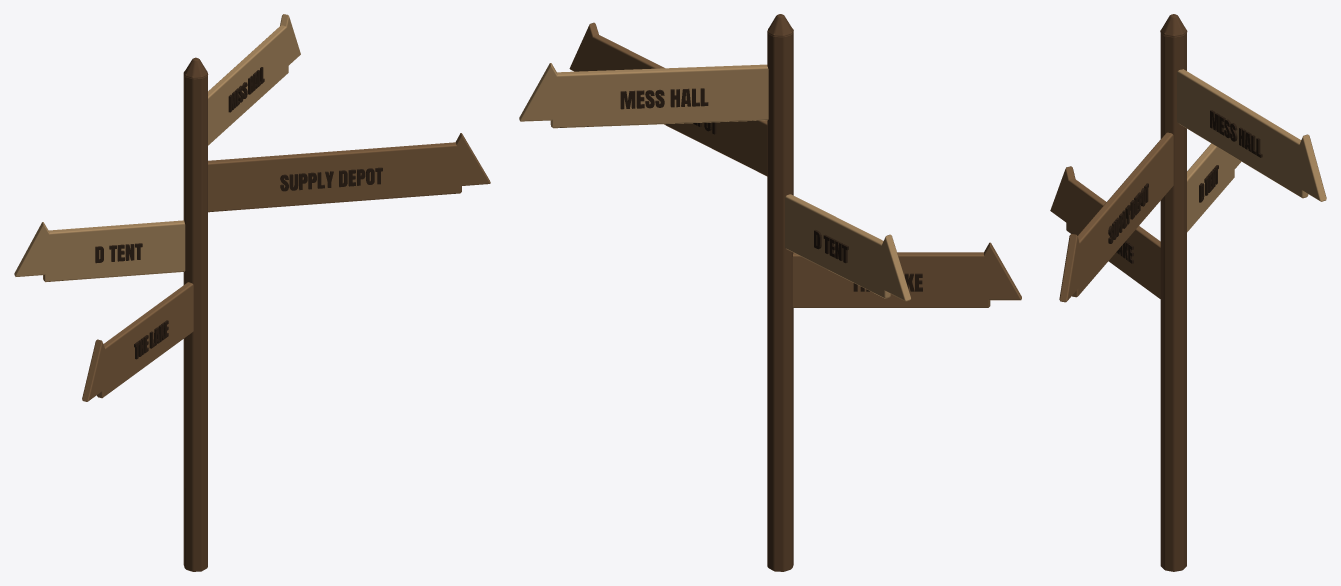
The model's file is SignDirections.glb.
3 renders of one model, left to right at view 1: azimuth 30°, elevation 25°; view 2: azimuth 150°, elevation 25°; view 3: azimuth 270°, elevation 25°, orthographic. The views are drawn at different scales.
Visible parts, largest first — view 1: SignDirections.001; view 2: SignDirections.001; view 3: SignDirections.001.
Boxes of the visible parts, box(x1,y1,x2,y2) form: SignDirections.001: box(14, 14, 490, 571); SignDirections.001: box(519, 14, 1021, 571); SignDirections.001: box(1050, 14, 1326, 571).
Bounding box in the file's own units: 2.61 × 3.08 × 1.4.
